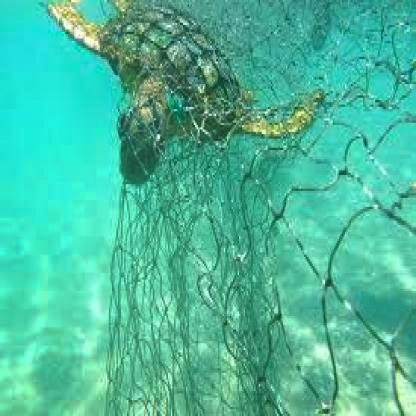net: (113, 2, 416, 416)
